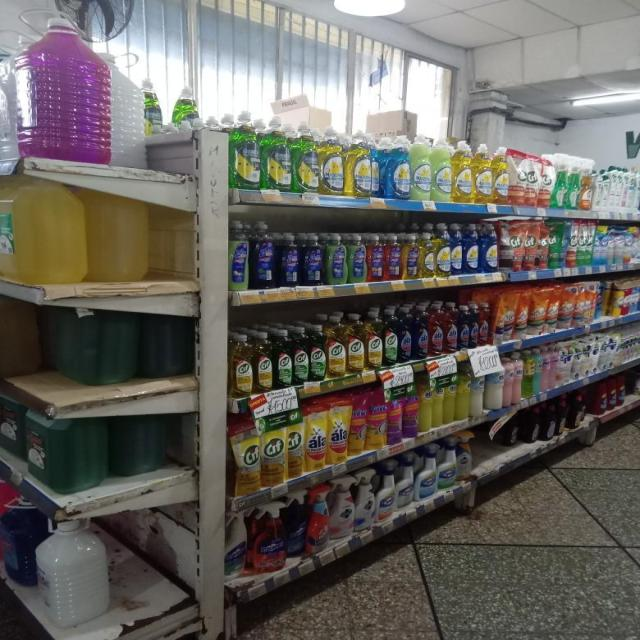ala_conc_azul: (413, 304, 428, 359), (399, 304, 412, 362), (458, 304, 469, 351), (470, 303, 479, 349)
ala_conc_rojo: (443, 302, 458, 353), (429, 302, 443, 356), (479, 301, 490, 347)
ala_crem_amarillo: (420, 374, 433, 432), (433, 372, 443, 428)
ala_sachet_amarillo: (305, 402, 327, 472), (328, 397, 348, 465)
cif_conc_bot_amarilla: (229, 333, 253, 396), (326, 312, 346, 378), (346, 312, 364, 374), (254, 332, 272, 392), (365, 307, 382, 370)
cif_conc_botella_verde: (274, 329, 292, 388), (383, 306, 398, 365), (293, 326, 308, 384), (310, 325, 325, 381)
cif_conc_sachet_amarillo: (233, 416, 260, 495), (261, 412, 286, 487), (287, 406, 304, 478)
drive: (368, 386, 387, 450), (349, 390, 366, 456), (403, 376, 418, 439), (388, 384, 402, 446)
magistral_con_amarillo: (346, 126, 373, 198), (320, 124, 344, 196), (453, 140, 473, 203), (473, 143, 492, 204), (493, 146, 510, 205), (435, 222, 450, 278), (419, 228, 435, 278)
magistral_con_azul: (385, 134, 411, 200), (481, 221, 498, 274), (464, 222, 479, 275), (451, 222, 463, 276)
magistral_con_crema: (411, 133, 432, 201), (433, 135, 452, 202)
zorro: (251, 220, 276, 289), (229, 220, 249, 290), (301, 232, 323, 286), (325, 232, 347, 285), (279, 232, 300, 287), (348, 233, 367, 283), (367, 233, 384, 282), (402, 232, 419, 280), (384, 233, 400, 281)
